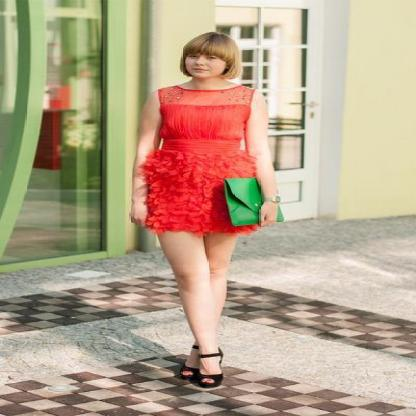bag: (216, 178, 264, 226)
dress: (144, 83, 261, 234)
shoe: (187, 366, 223, 388)
